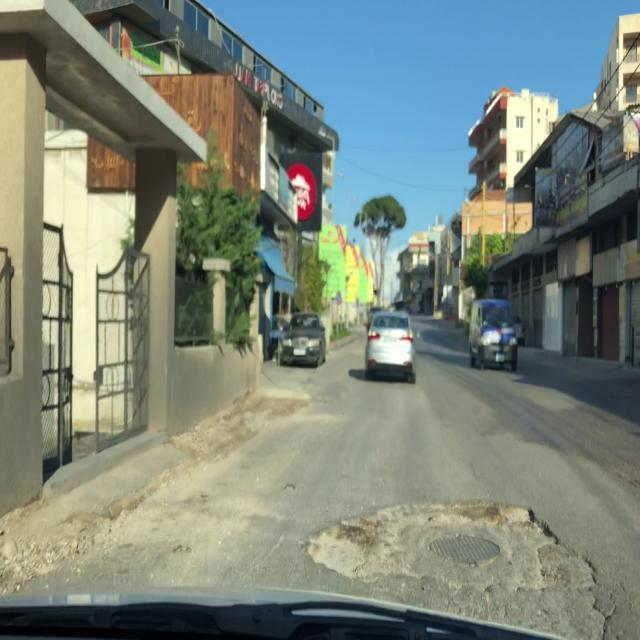pothole: (302, 500, 398, 585), (476, 499, 562, 547)
